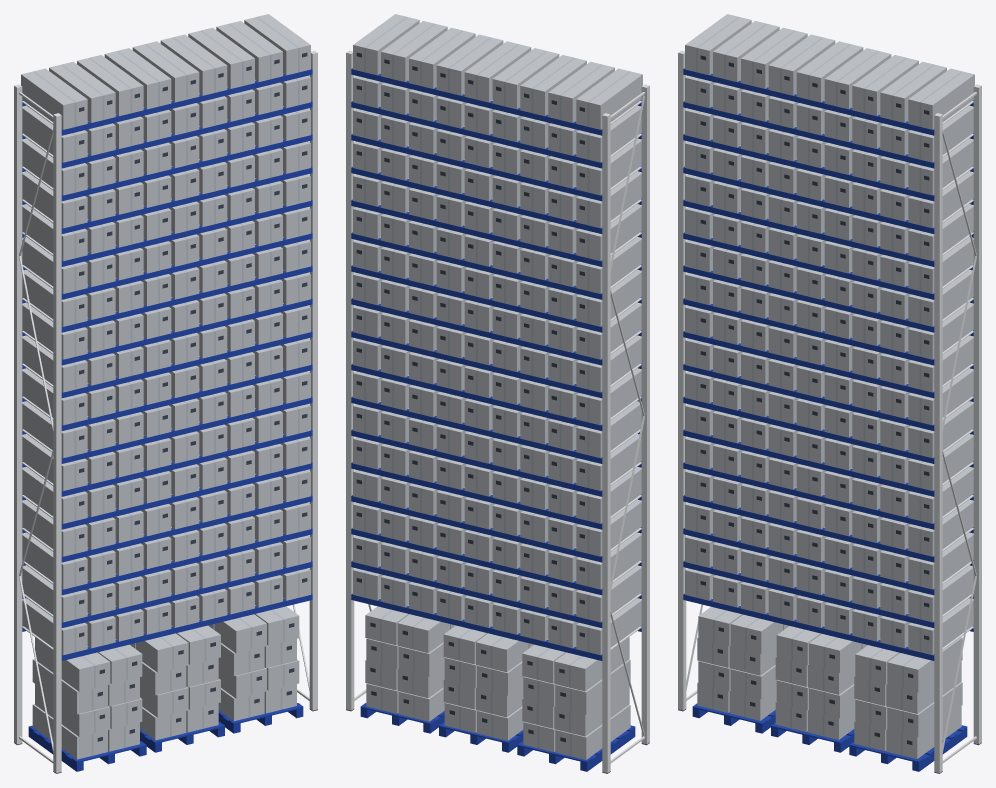
The model's file is SM_MPR_CADRack_F17P1_W144_Standard_LOD1.fbx.
3 renders of one model, left to right at view 1: azimuth 30°, elevation 25°; view 2: azimuth 150°, elevation 25°; view 3: azimuth 330°, elevation 25°, orthographic.
Parts seen in each view (by area): view 1: SM_MPR_CADRack_F17P1_W144_Standard_LOD1; view 2: SM_MPR_CADRack_F17P1_W144_Standard_LOD1; view 3: SM_MPR_CADRack_F17P1_W144_Standard_LOD1.
Boxes of the visible parts, box(x1,y1,x2,y2) form: SM_MPR_CADRack_F17P1_W144_Standard_LOD1: box(14, 14, 317, 773); SM_MPR_CADRack_F17P1_W144_Standard_LOD1: box(346, 14, 649, 773); SM_MPR_CADRack_F17P1_W144_Standard_LOD1: box(678, 14, 981, 773).
Bounding box in the file's own units: 381 × 122 × 929.
